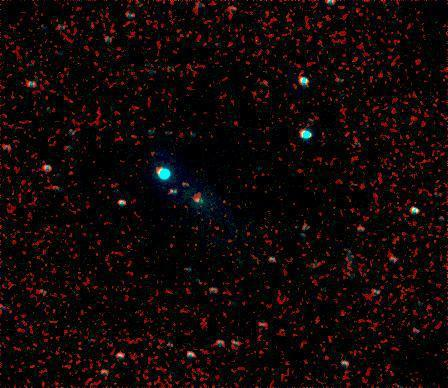star: (185, 187, 215, 217)
